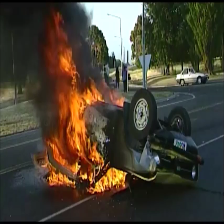fire_h: (40, 11, 107, 183), (87, 168, 128, 193)
fire_l: (47, 171, 76, 185), (109, 89, 125, 106), (41, 154, 56, 170)
